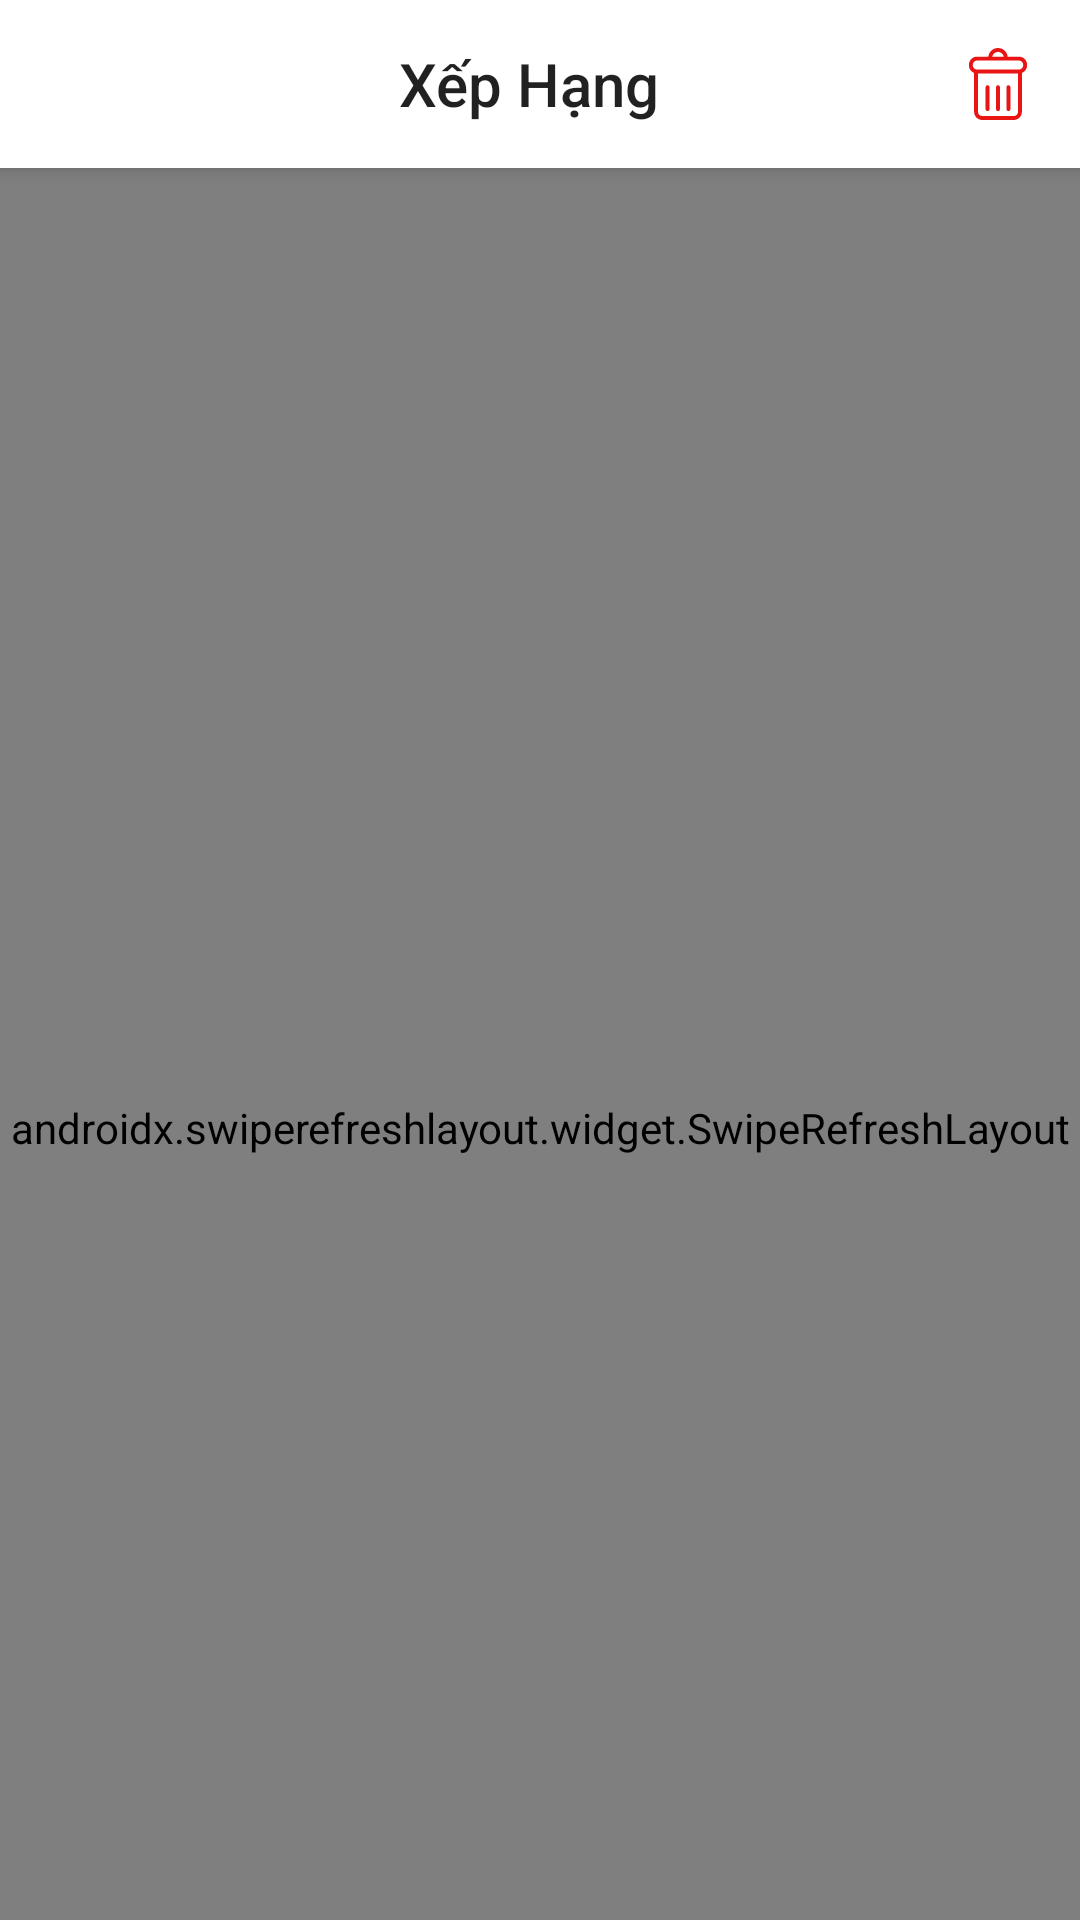

Icon bounding boxes for this 1080×1920 phone screenshot, format bbox=(x1, y1, x2, y2):
delete: bbox=(969, 48, 1027, 120)
